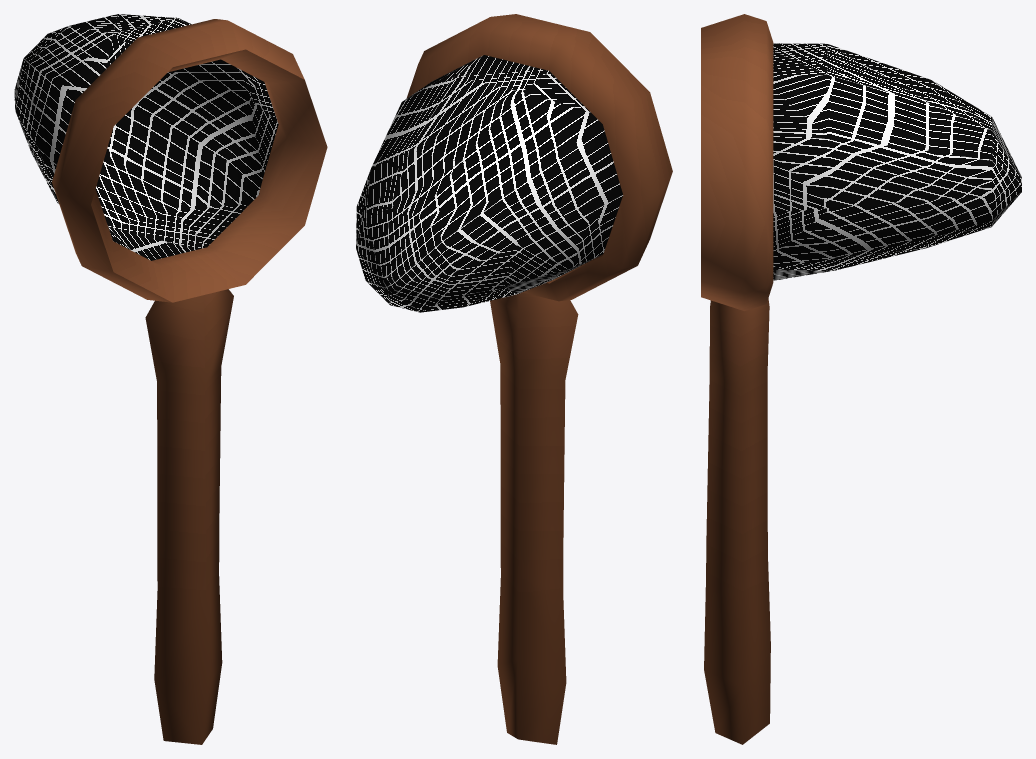
File: Net.fbx
3 views of the same model, side by side, from view 1: azimuth 30°, elevation 25°; view 2: azimuth 150°, elevation 25°; view 3: azimuth 270°, elevation 25° (orthographic).
Parts seen in each view (by area): view 1: Net; view 2: Net; view 3: Net.
Boxes of the visible parts, <box> form: Net: <box>14,14,327,744</box>; Net: <box>356,14,672,744</box>; Net: <box>701,14,1021,744</box>.
Size of the model in its own units: 110 by 285 by 118.
